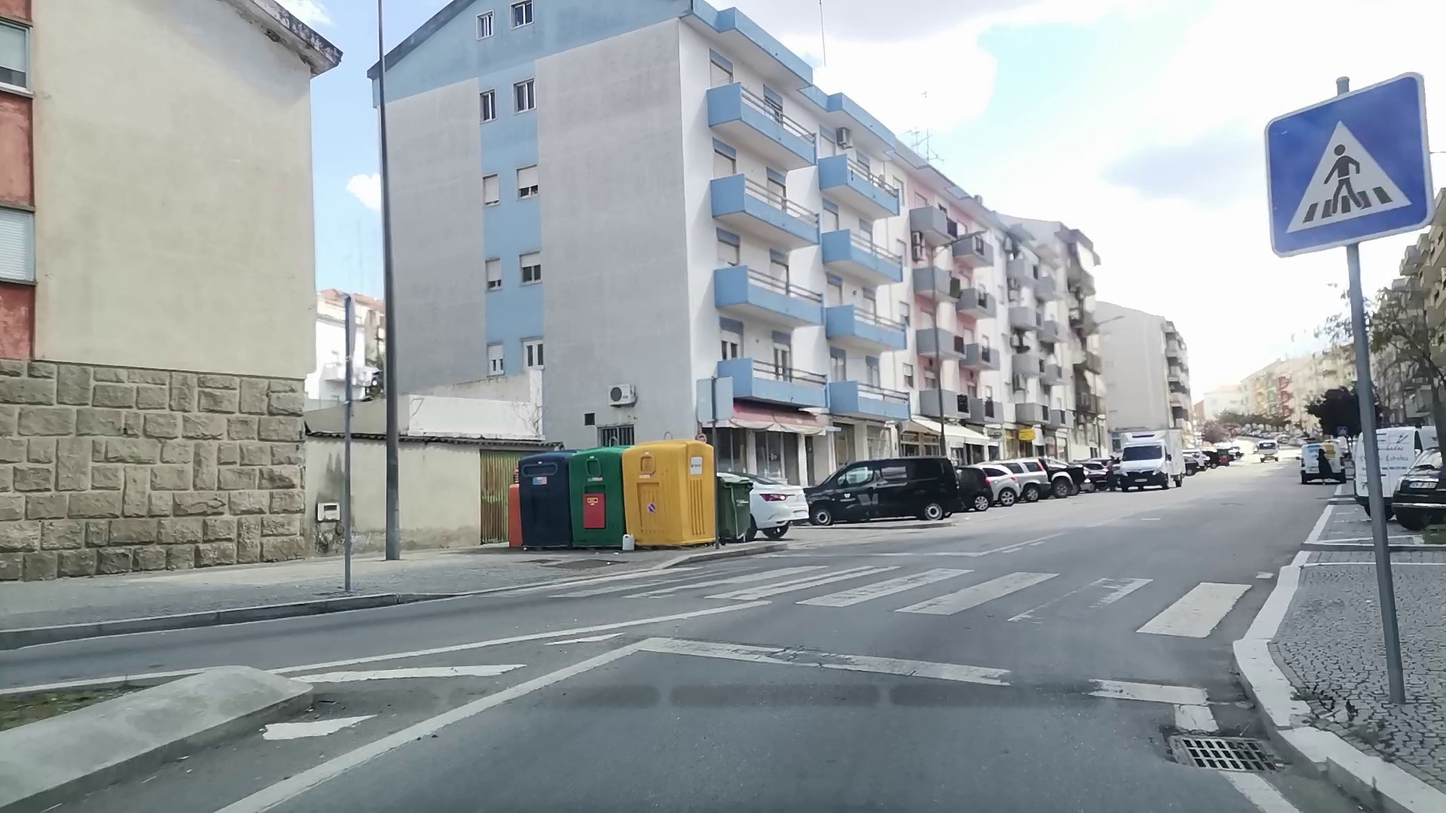Stairs: (546, 561, 1253, 642)
